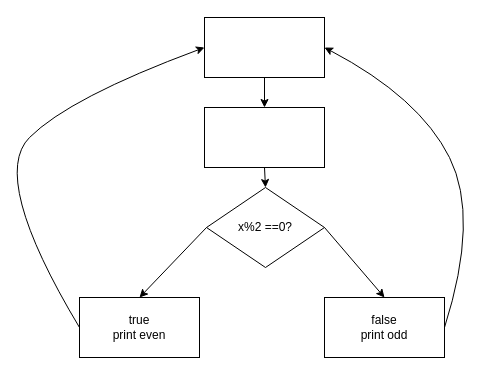
Some shapes in this 482 by 375 pixel diagram are drawn without their labels. The shapes that lost their labels are listed below. From the top down, each one's box as (x1, y1, x2, y2) in pixels, then its label:
(204, 16, 324, 78): loop
(204, 106, 324, 168): x = input int
